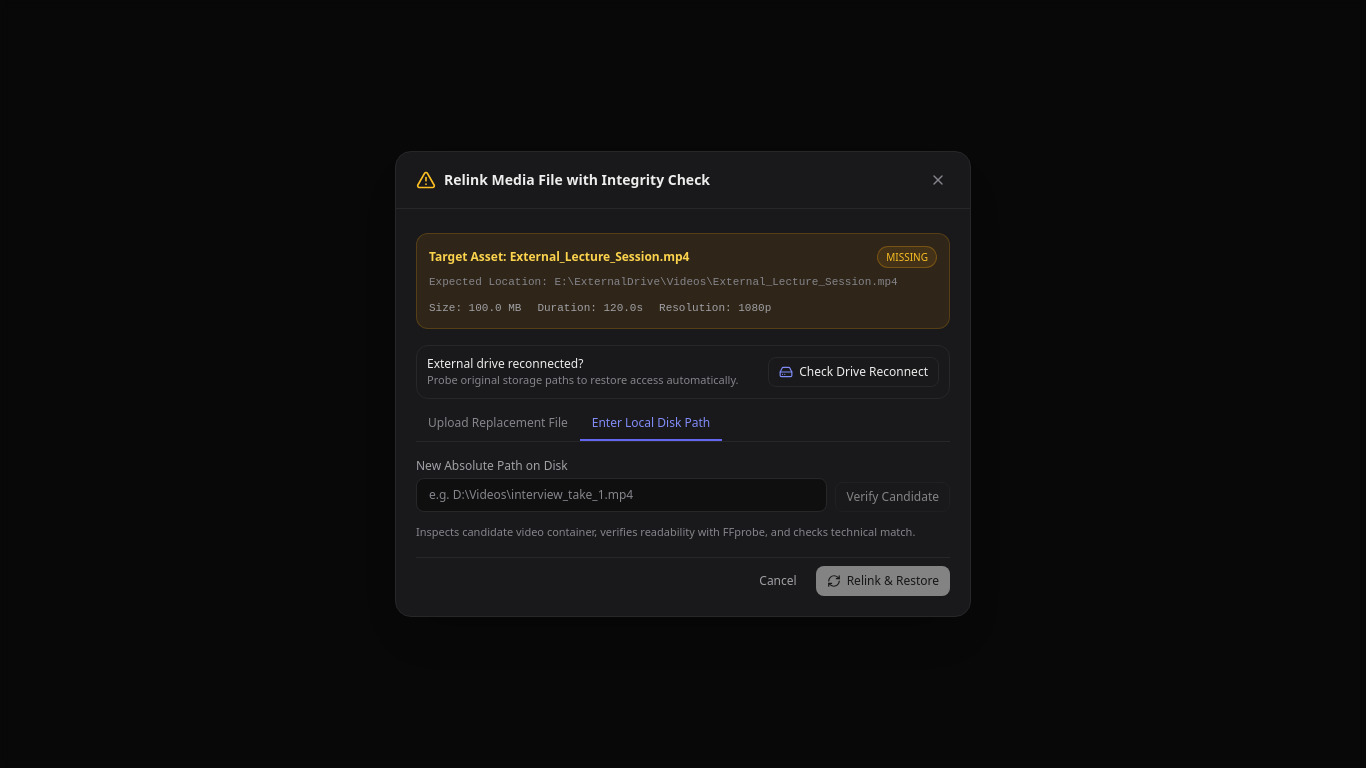
Test: P1.7 Media Relinking, Missing File Recovery & External Media Handling › opens MediaRelinkModal, inspects local candidate path and displays comparison preview
Check: the text "Relink Media File with Integrity Check" is shown, box 444,170 -> 710,190
Check: the text "Target Asset: External_Lecture_Session.mp4" is shown, box 429,249 -> 689,265
// Fill candidate path
Type "D:\\Videos\\Restored_Session.mp4" into the field with placeholder "e.g. D:\\Videos\\interview_take_1.mp4" at (622, 495), box 416,478 -> 827,512
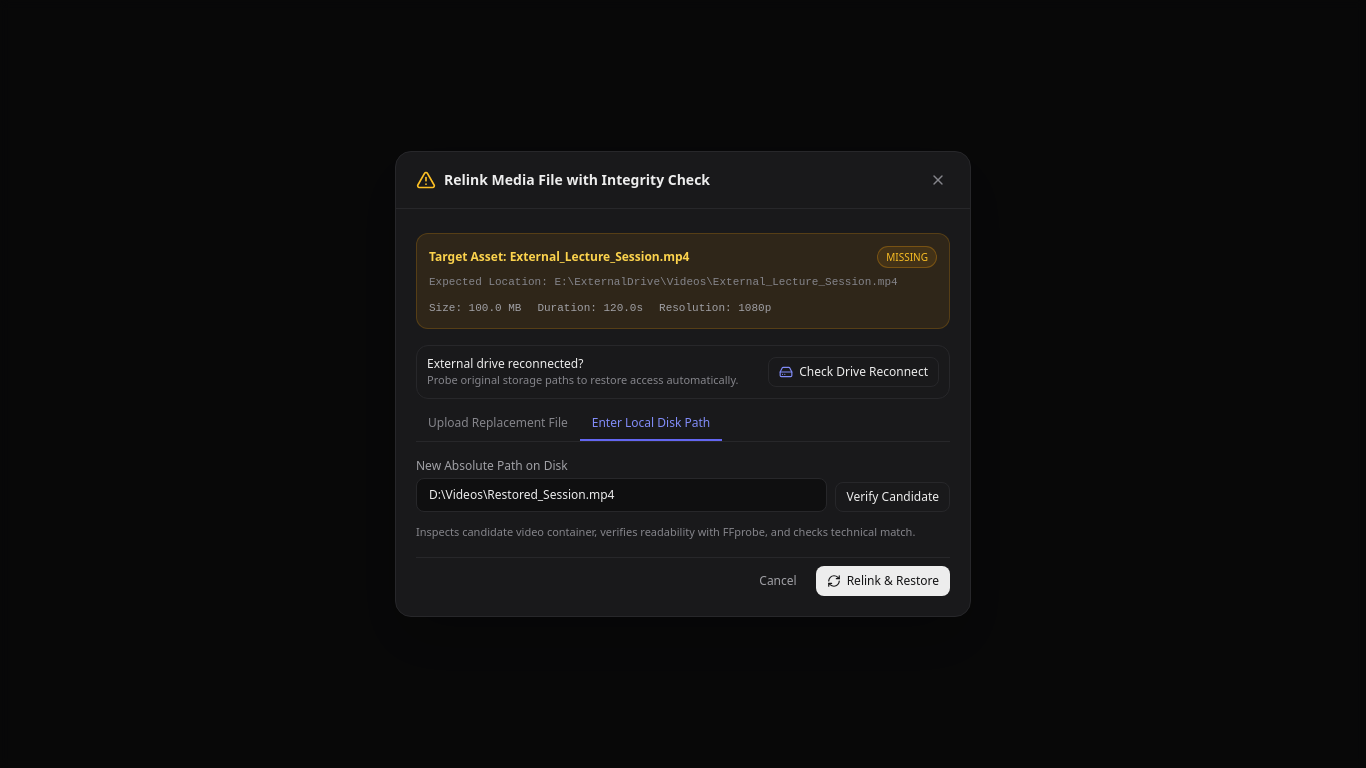
// Click Verify Candidate
Click the button "Verify Candidate" at (893, 497), box 835,482 -> 950,512
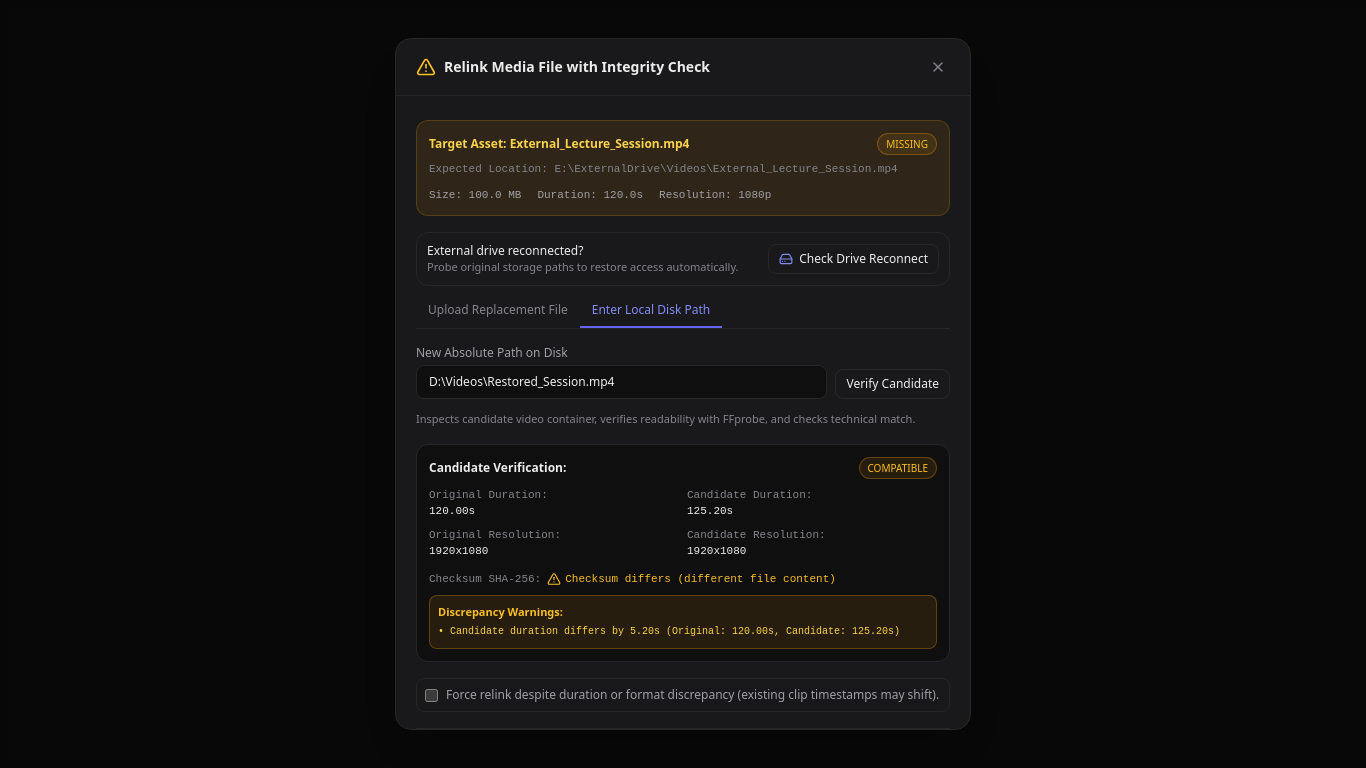
Check: the text "COMPATIBLE" is shown, box 858,457 -> 937,479
Check: the text "Candidate duration differs by 5.20s" is shown, box 450,626 -> 900,637
